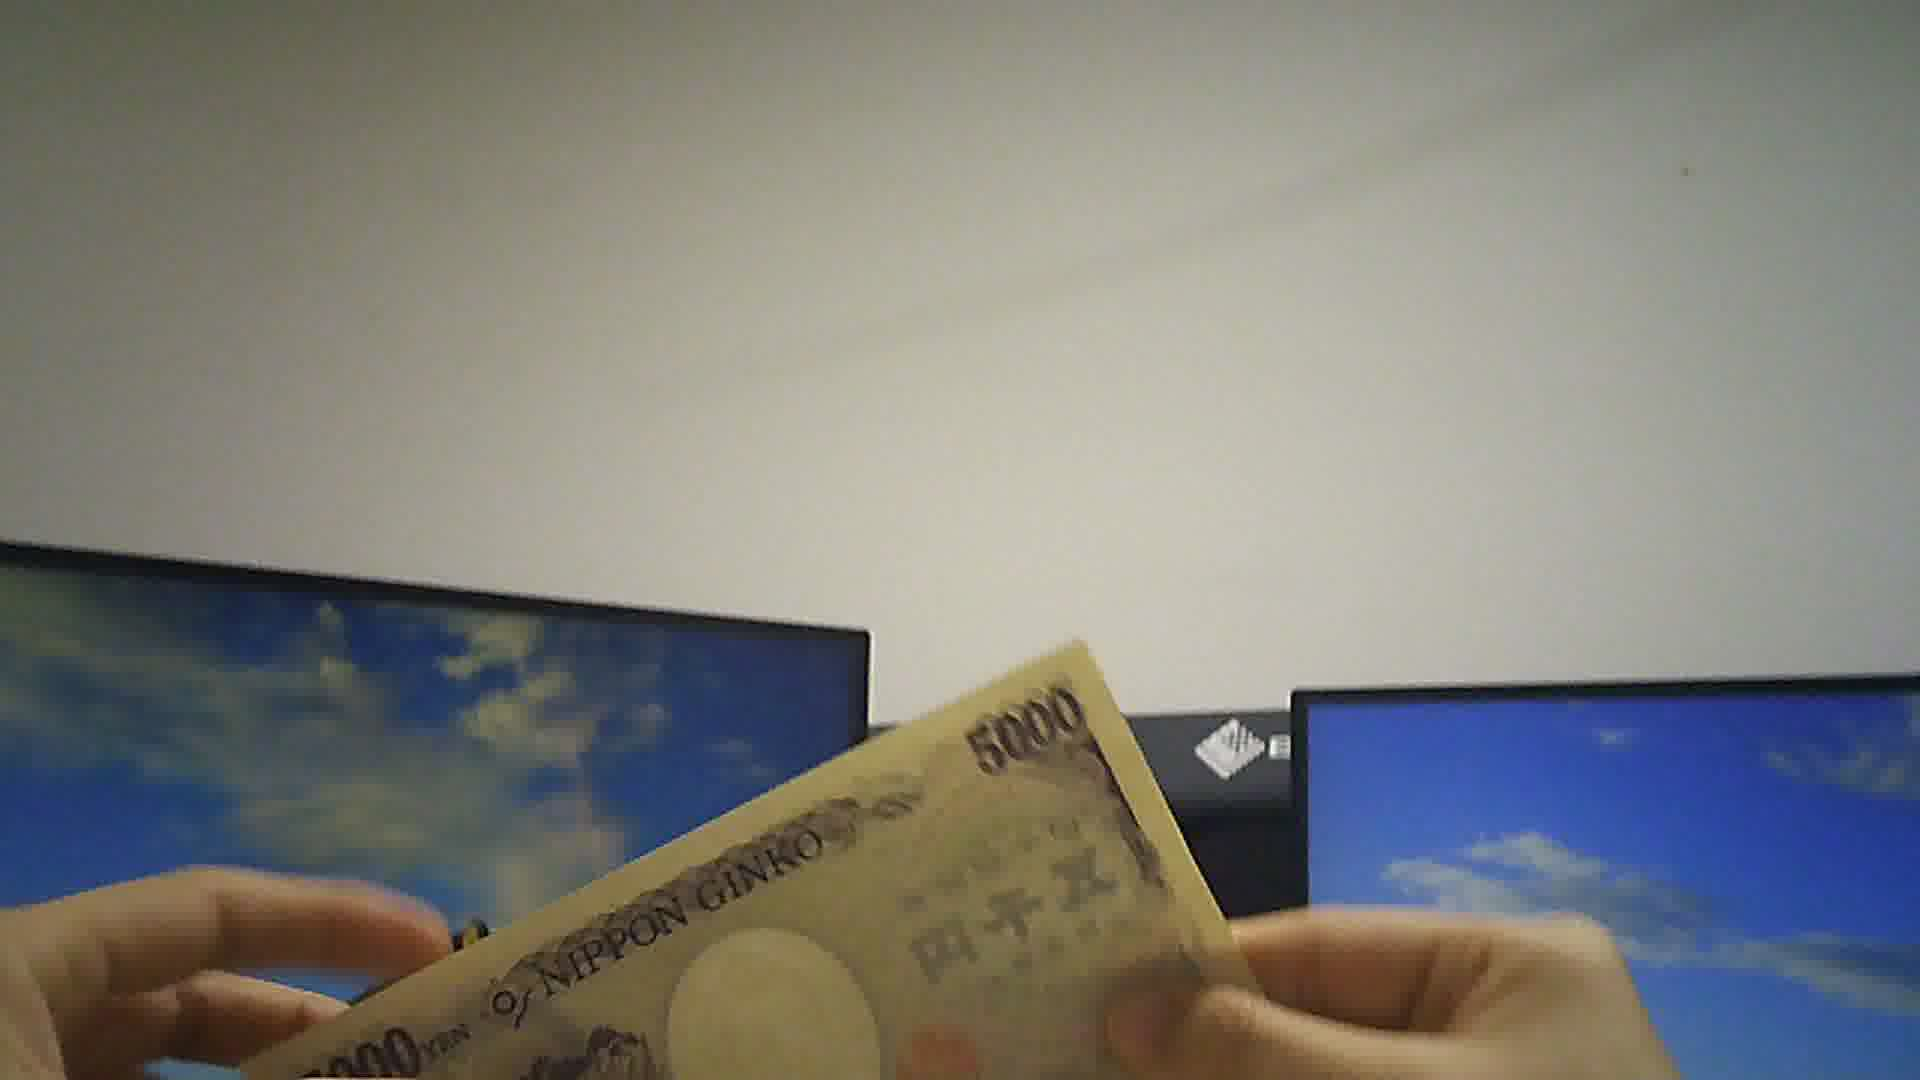5,000 Yen: (198, 651, 1251, 1079)
